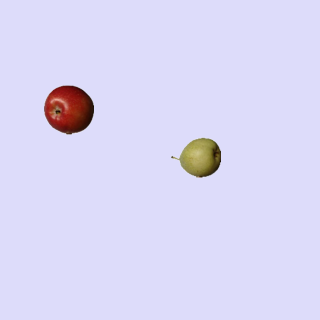Apple Braeburn: (43, 84, 93, 134)
Pear: (170, 132, 220, 182)
